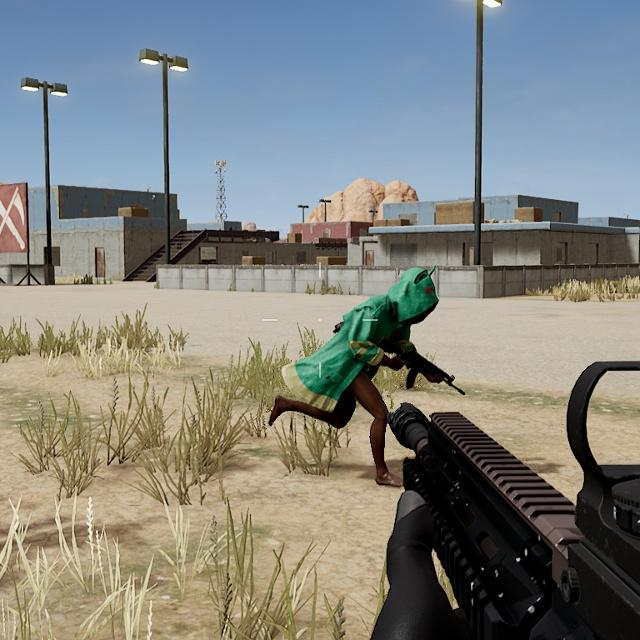head: (384, 266, 439, 332)
people: (258, 263, 444, 492)
